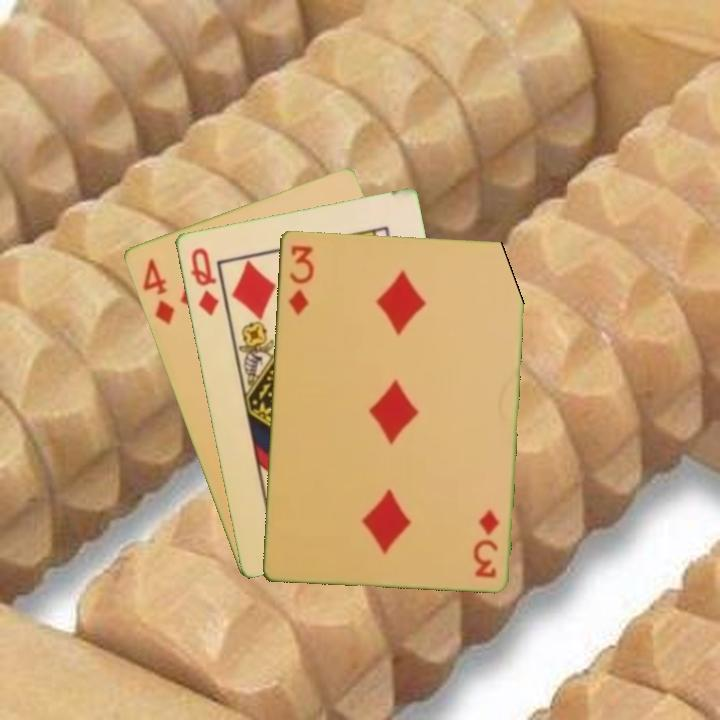3d: (285, 241, 316, 317), (471, 505, 502, 580)
4d: (138, 255, 177, 328)
Qd: (186, 244, 221, 319)
